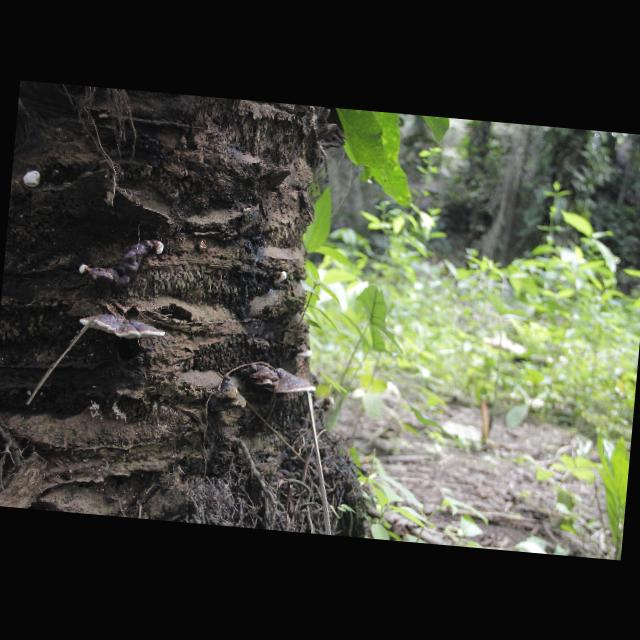ganoderma: (87, 235, 153, 294), (79, 311, 167, 342), (264, 367, 318, 396), (242, 363, 281, 387), (291, 346, 313, 359)
primordium: (23, 170, 42, 189), (273, 272, 288, 286), (154, 240, 165, 256), (321, 397, 335, 408), (79, 264, 89, 276)
